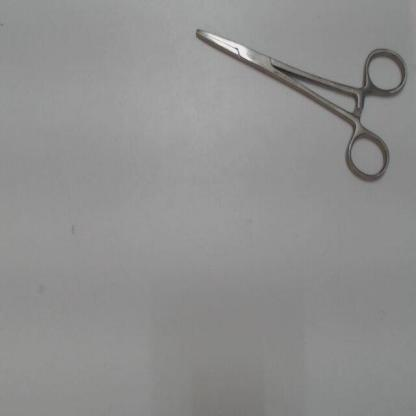Mayo Needle Holder: (180, 13, 412, 192)
